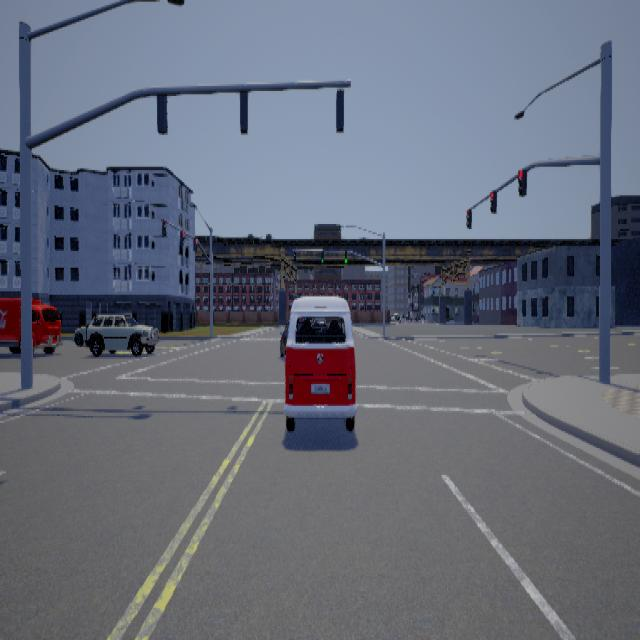green_light: (344, 250, 347, 264), (321, 251, 324, 263)
red_light: (517, 167, 526, 195), (489, 189, 496, 212), (465, 208, 471, 228), (192, 236, 197, 251), (179, 229, 184, 244), (162, 218, 166, 236)
traffic_light: (293, 249, 295, 261)
vehicle: (279, 295, 356, 429), (0, 288, 61, 352), (72, 310, 158, 355)
